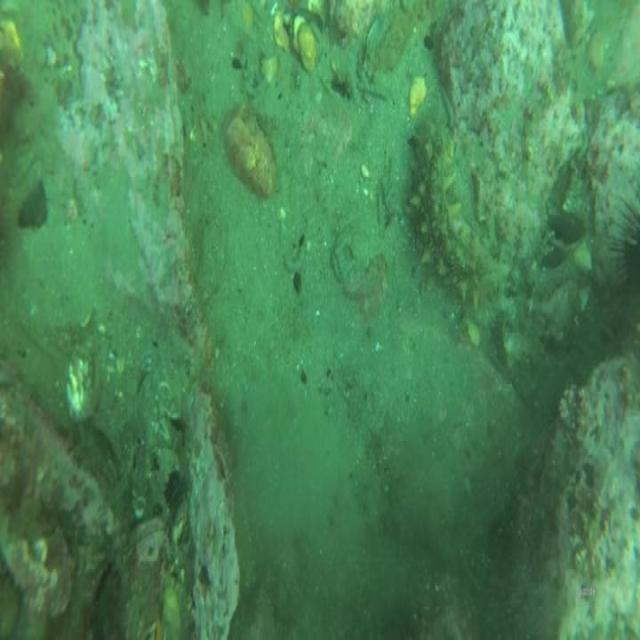holothurian: (412, 131, 488, 305)
scallop: (409, 79, 427, 115)
